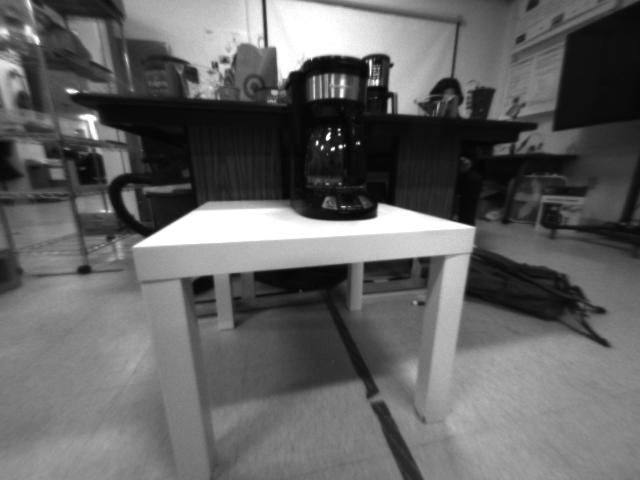coffee_pot: (278, 51, 383, 224)
